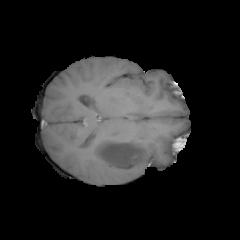glioma: (92, 72, 153, 170)
